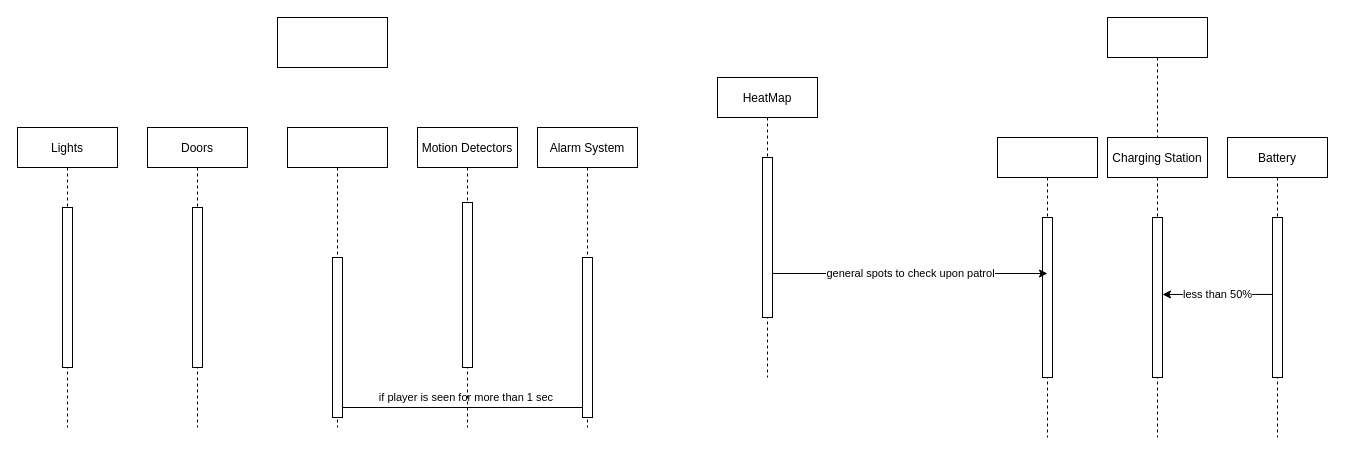
This 1345x455 diagram has some shape labels left out. Each missing label, with the box of its shape:
Cameras: (286, 126, 388, 428)
Patrol: (996, 136, 1098, 438)
Robot: (1106, 16, 1208, 138)
